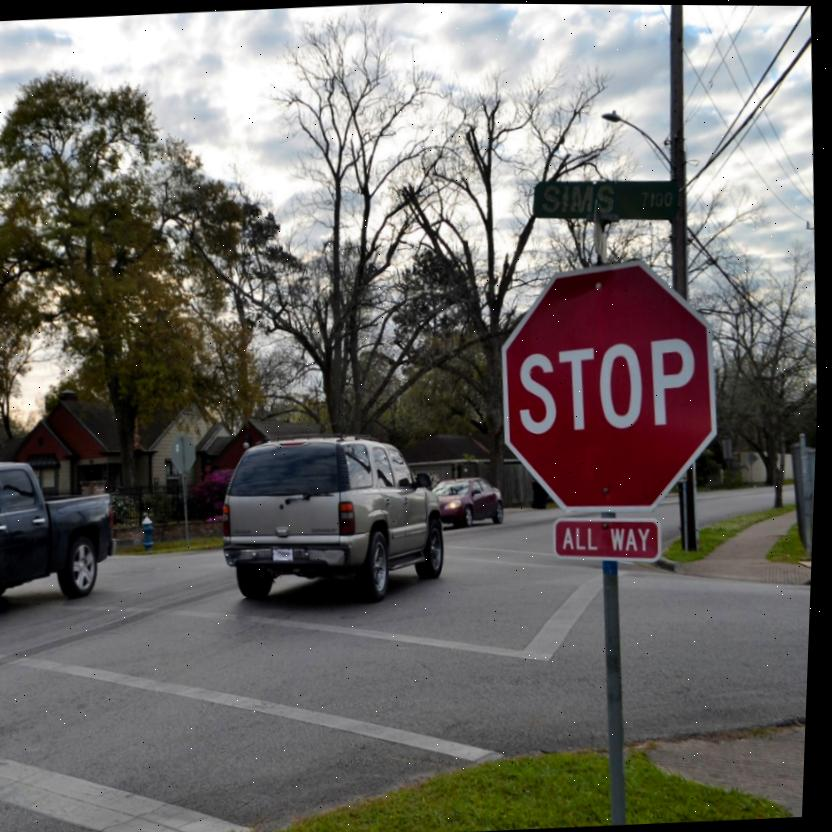Pole: (597, 560, 640, 822), (184, 476, 197, 544)
Sign: (492, 250, 734, 526), (172, 435, 201, 474)
